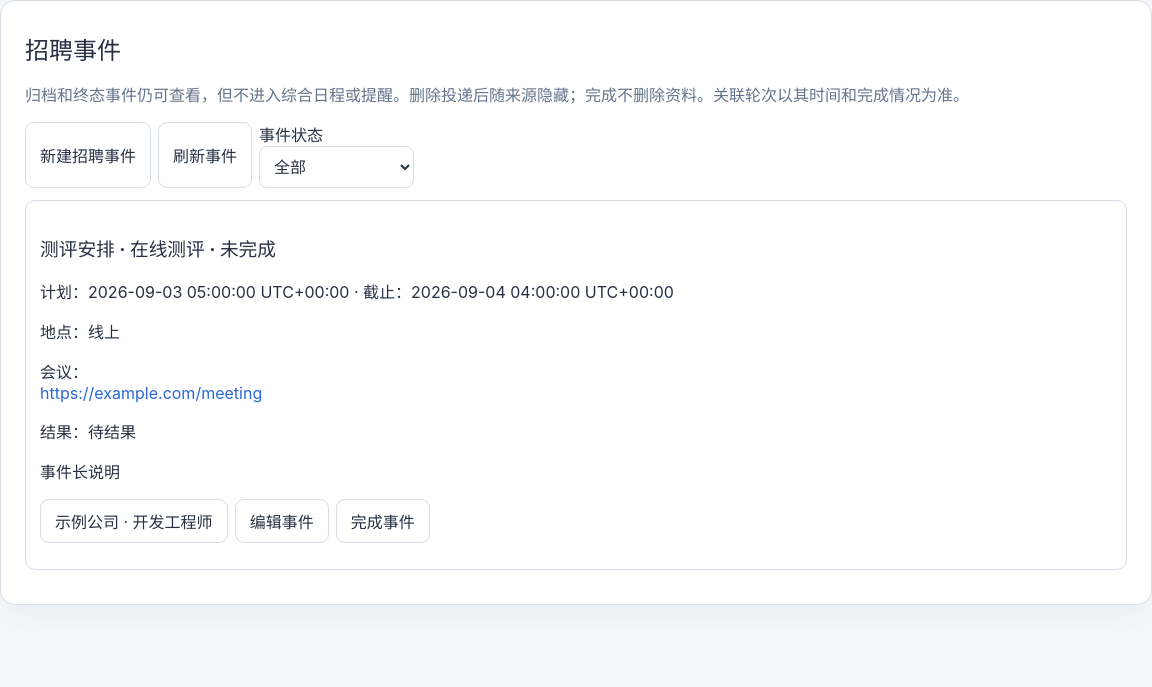
Test: creates an event with metadata then completes and reopens without deleting content
Expected: the heading "测评安排 · 在线测评 · 未完成" is shown, [40,238,276,261]
Click the button "新建招聘事件" at (88, 155), box [25,122,151,188]
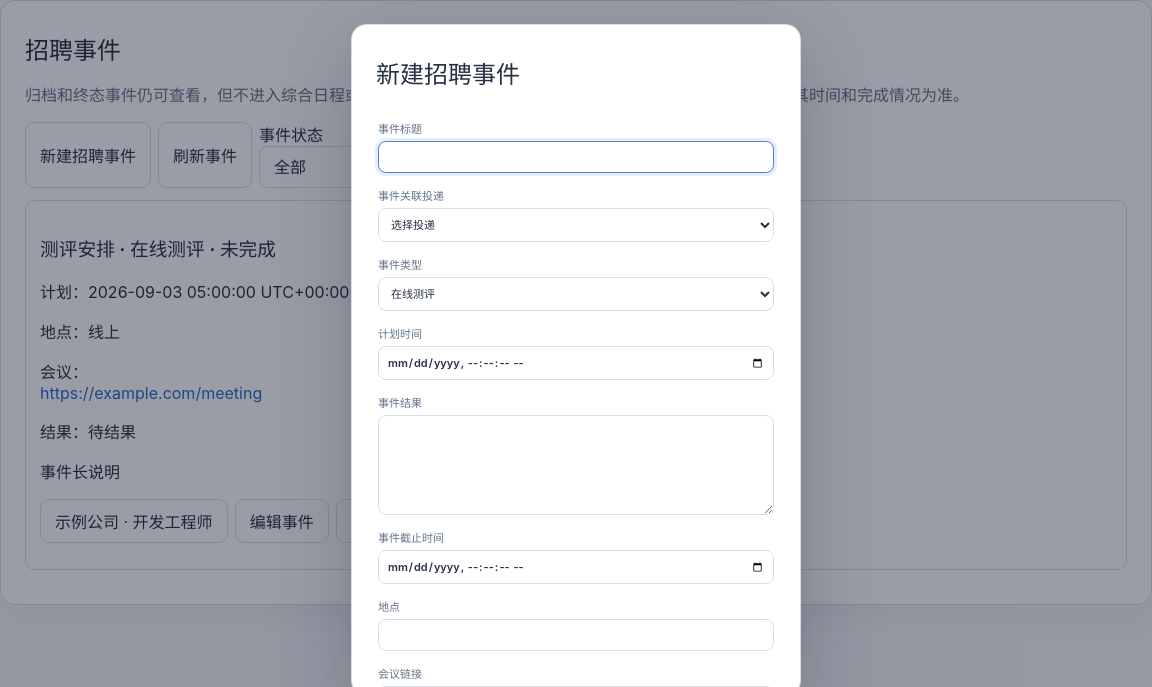
Type "新测评" into the field labelled "事件标题" at (576, 157), box [378,141,774,173]
Select "示例公司 · 开发工程师" in the dropdown labelled "事件关联投递" at (576, 225), box [378,208,774,242]
Type "2026-09-03T13:00" into the field labelled "计划时间" at (576, 363), box [378,346,774,380]
(page scrolled)
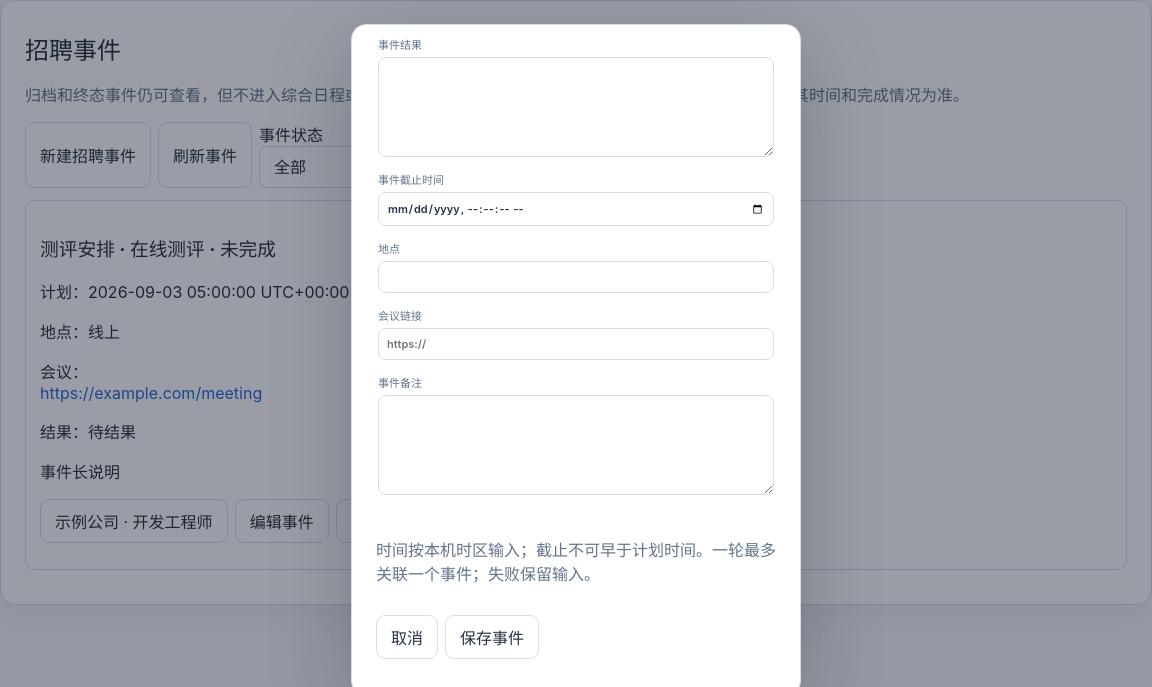
Type "保留备注" into the text box labelled "事件备注" at (576, 445), box [378,395,774,495]
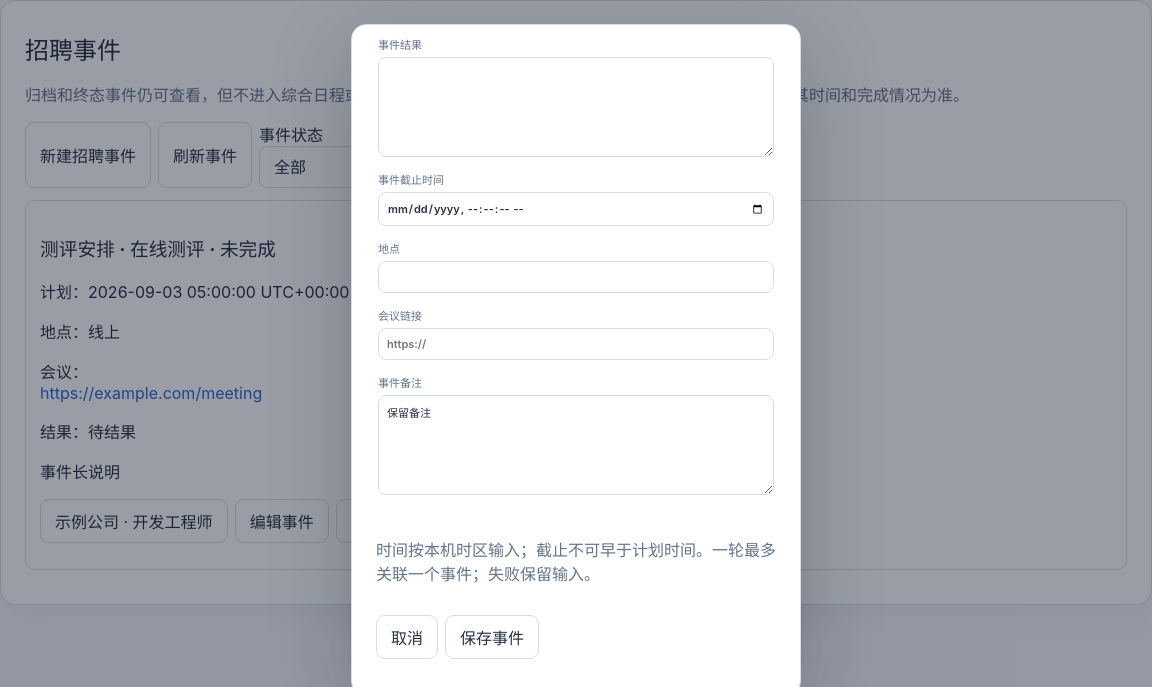
Click the button "保存事件" at (492, 637), box [445,615,539,659]
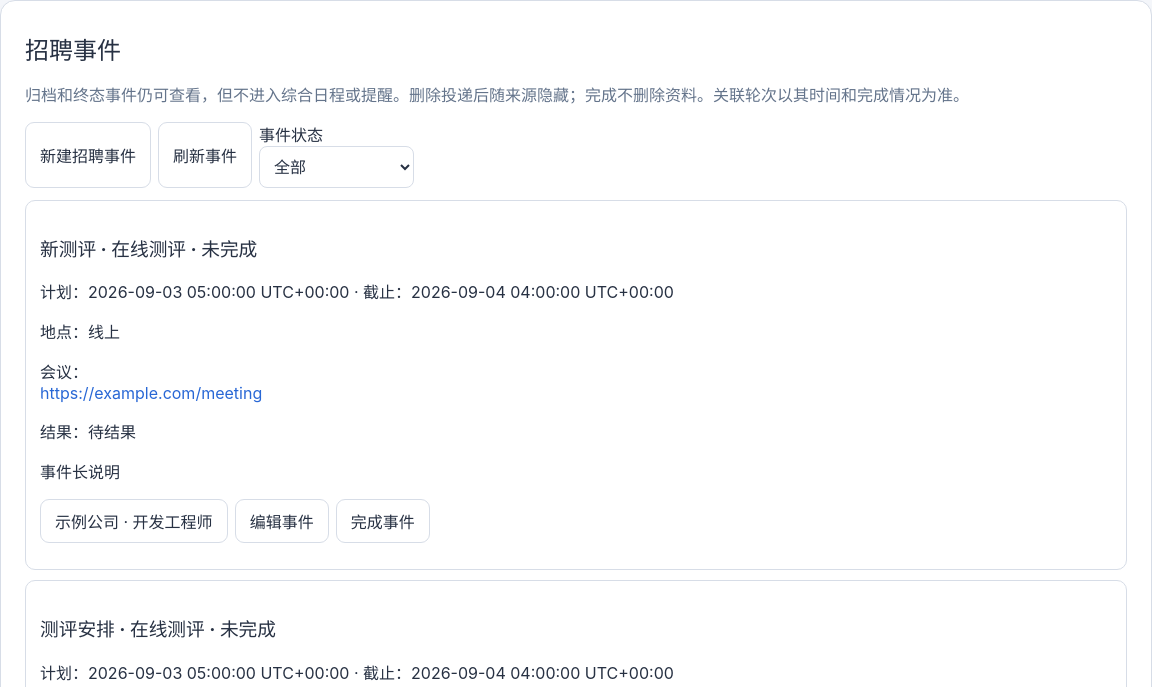
Now the heading "新测评 · 在线测评 · 未完成" is shown, box [40,238,257,261]
Click the button "完成事件" at (383, 521), box [336,499,430,543]
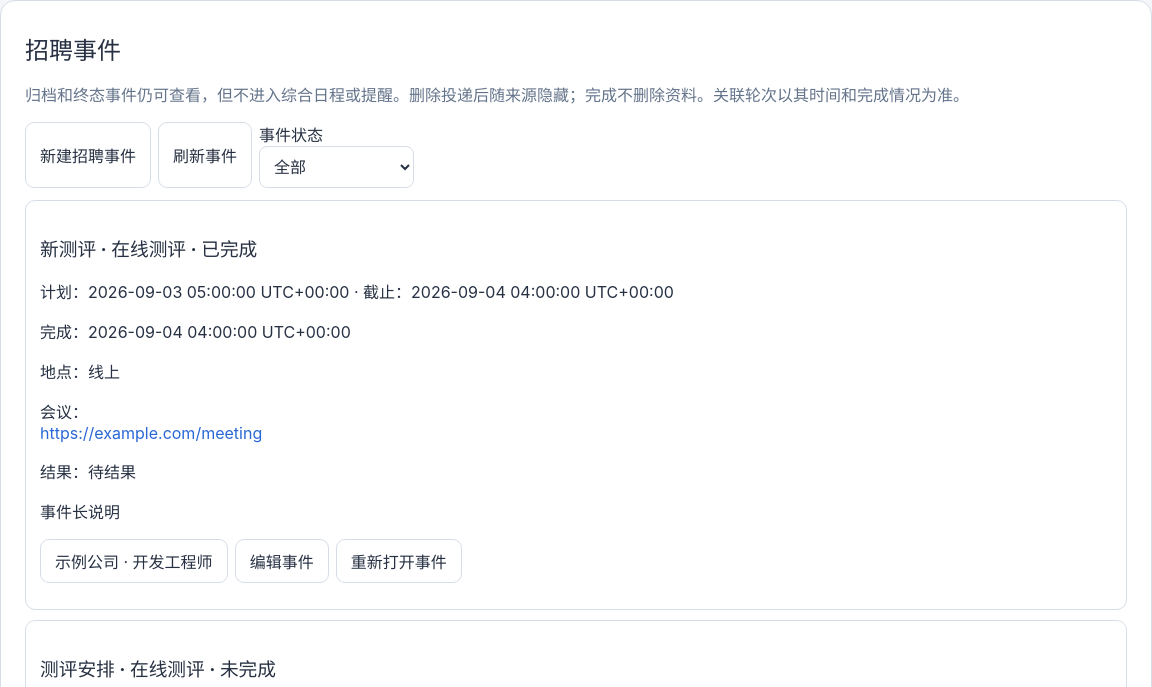
Now the text "事件长说明" is shown, box [40,502,120,522]
Now the heading "新测评 · 在线测评 · 已完成" is shown, box [40,238,257,261]
Click the button "重新打开事件" at (399, 561), box [336,539,462,583]
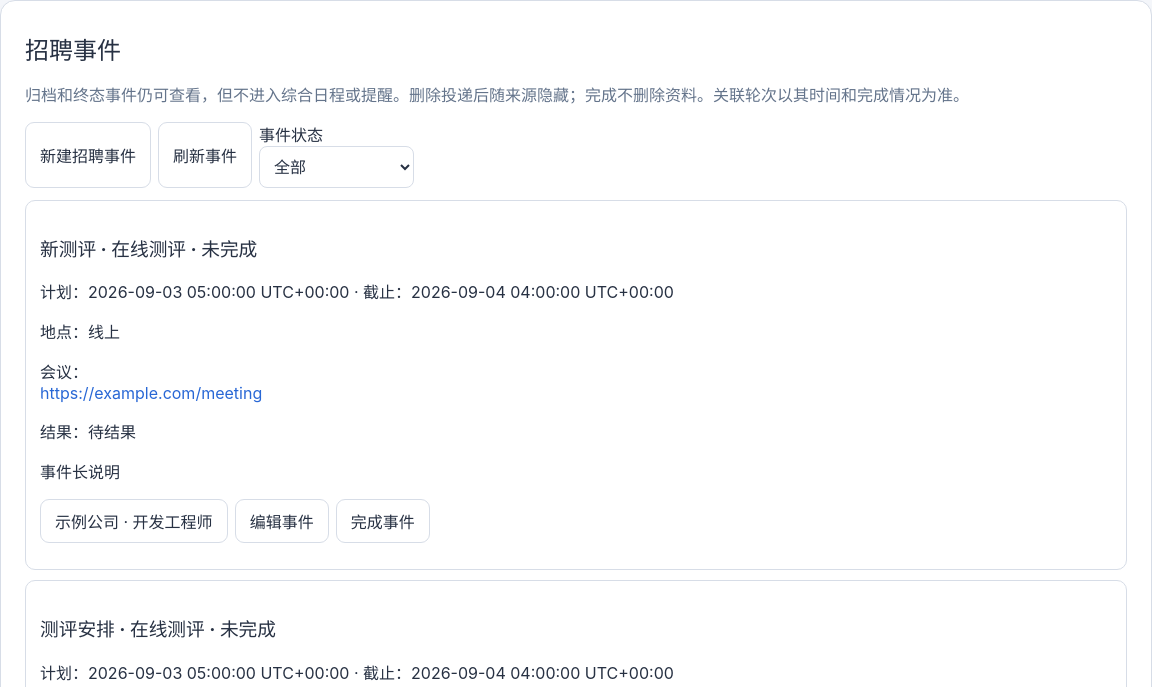
Now the heading "新测评 · 在线测评 · 未完成" is shown, box [40,238,257,261]
